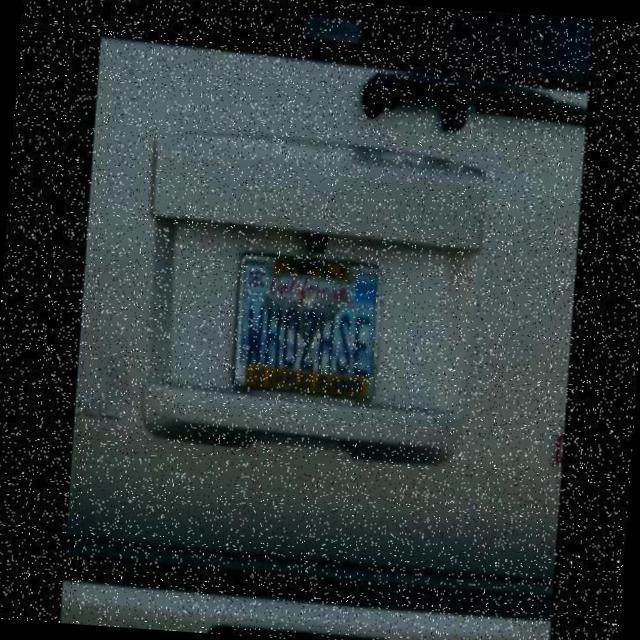License Plate: (215, 229, 393, 411)
